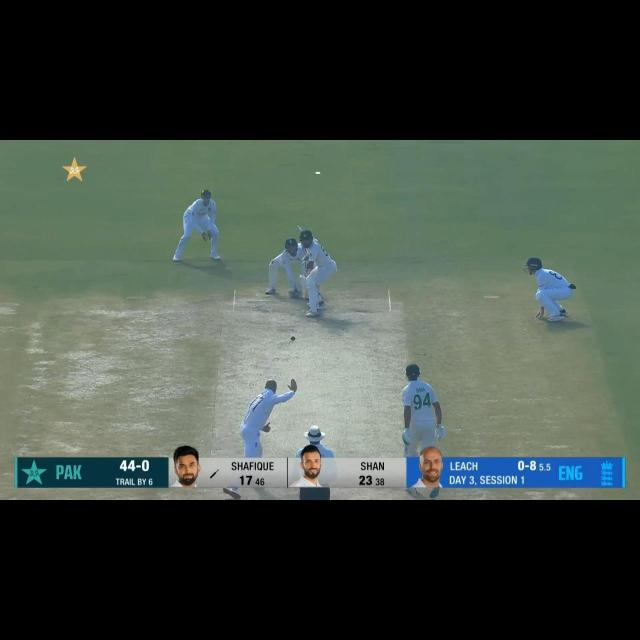toe: (410, 486, 418, 496), (295, 224, 303, 232)
